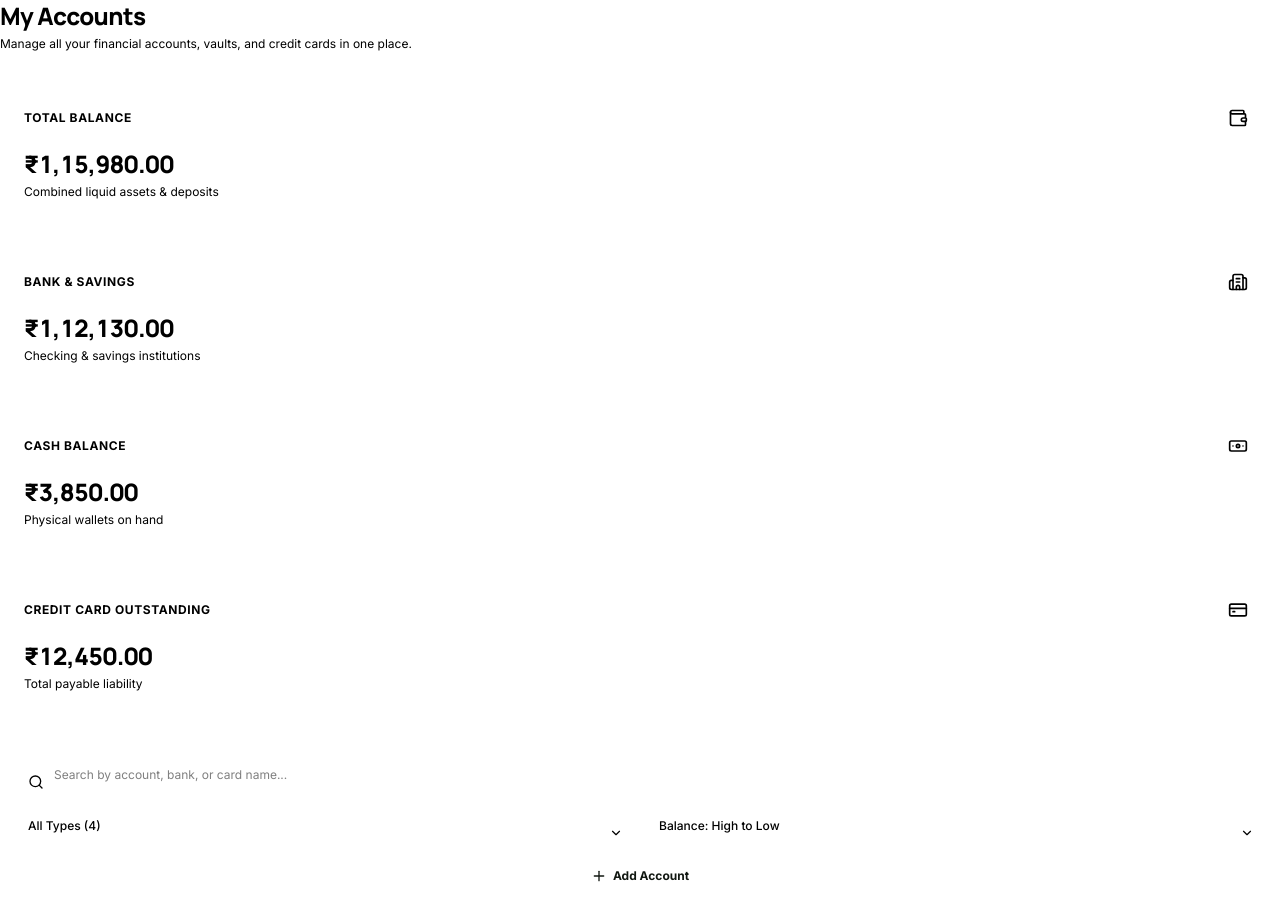
SPENDX Accounts Page & Telemetry › opens Add Account dialog when Add Account CTA is clicked
This screenshot has width=1280, height=900.
Click the button "Add Account".
click(640, 876)  # box [14,856,1266,896]
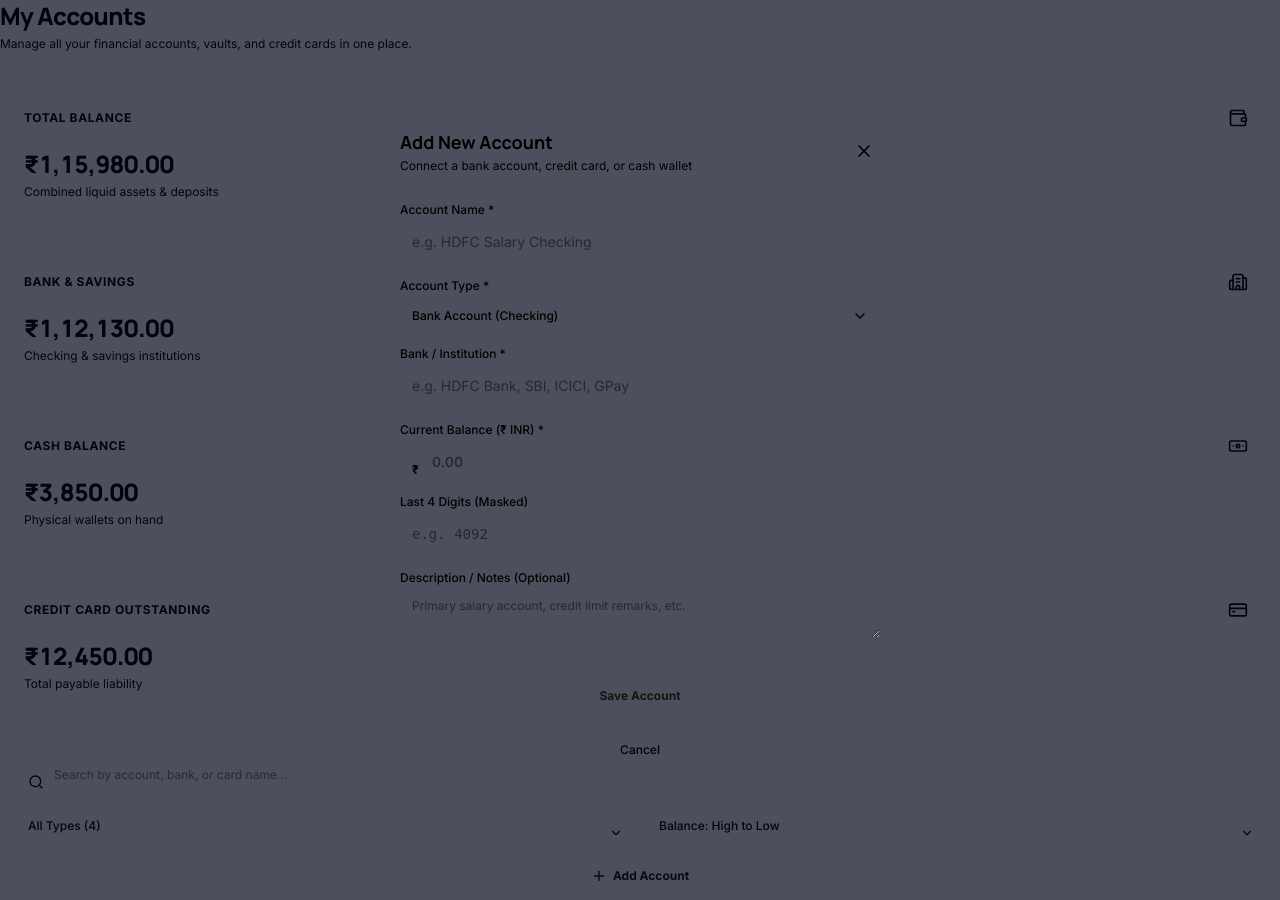
Check: the heading "Add New Account" is shown, box [400,130,553,154]
Check: the field labelled "Account Name *" is shown, box [400,222,880,262]
Check: the field labelled "Bank / Institution *" is shown, box [400,366,880,406]
